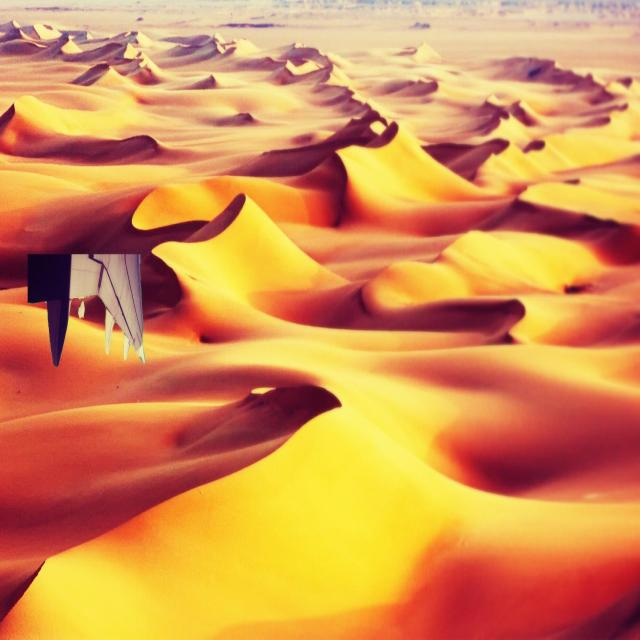airplane: (28, 252, 146, 366)
